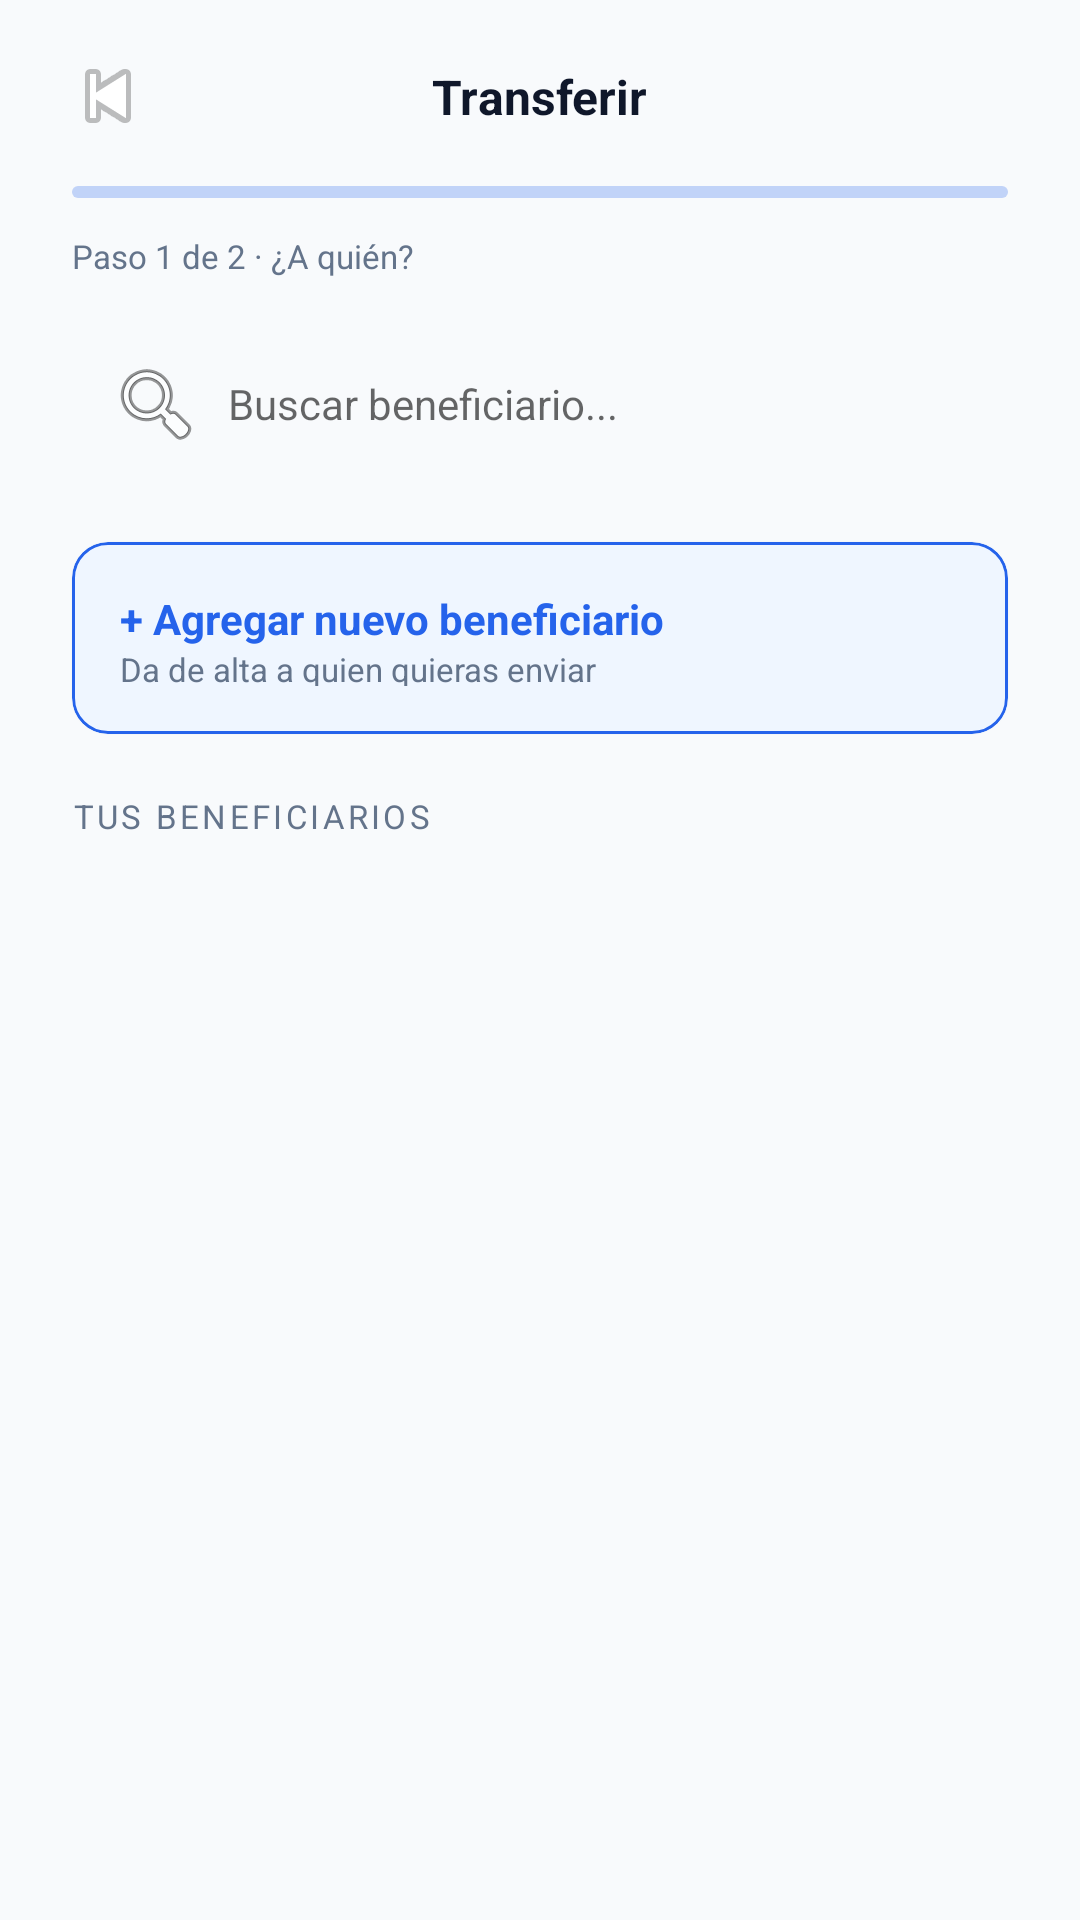

Icon bounding boxes for this 1080 x 1920 phone screenshot, format (x1, y1, x2, y2):
Regresar: (85, 69, 131, 123)
